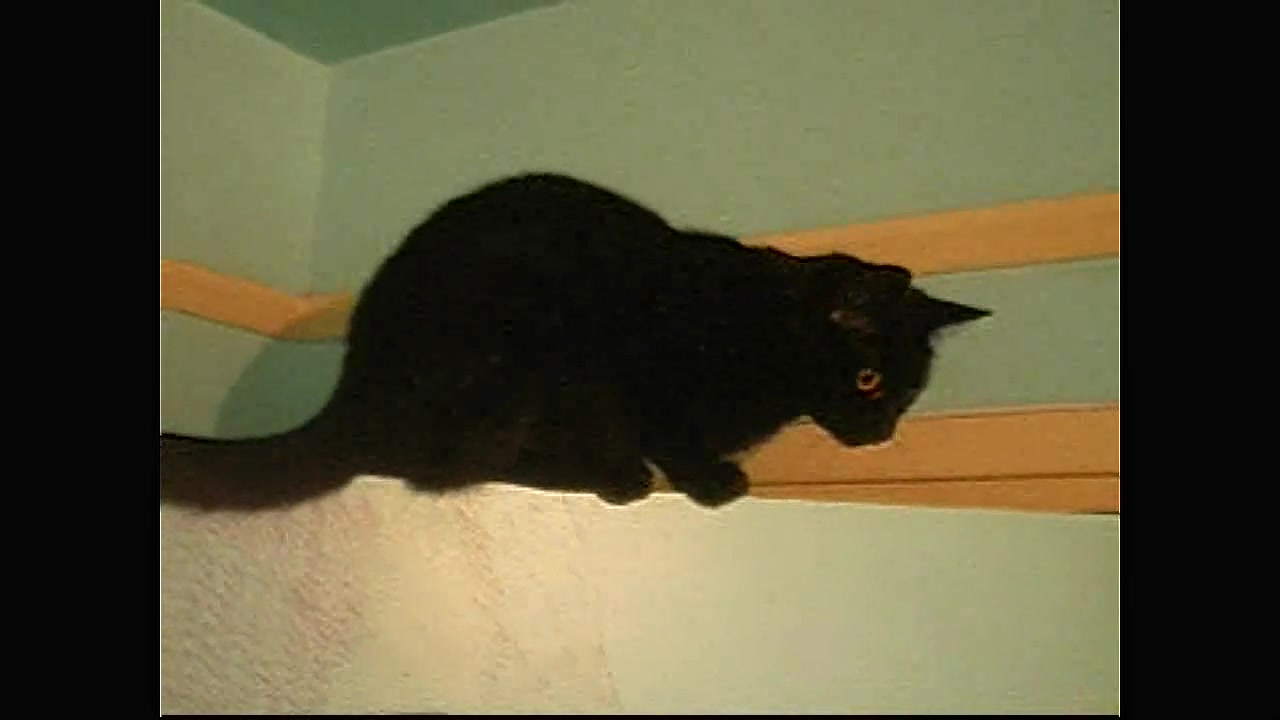cat: (163, 168, 997, 517)
